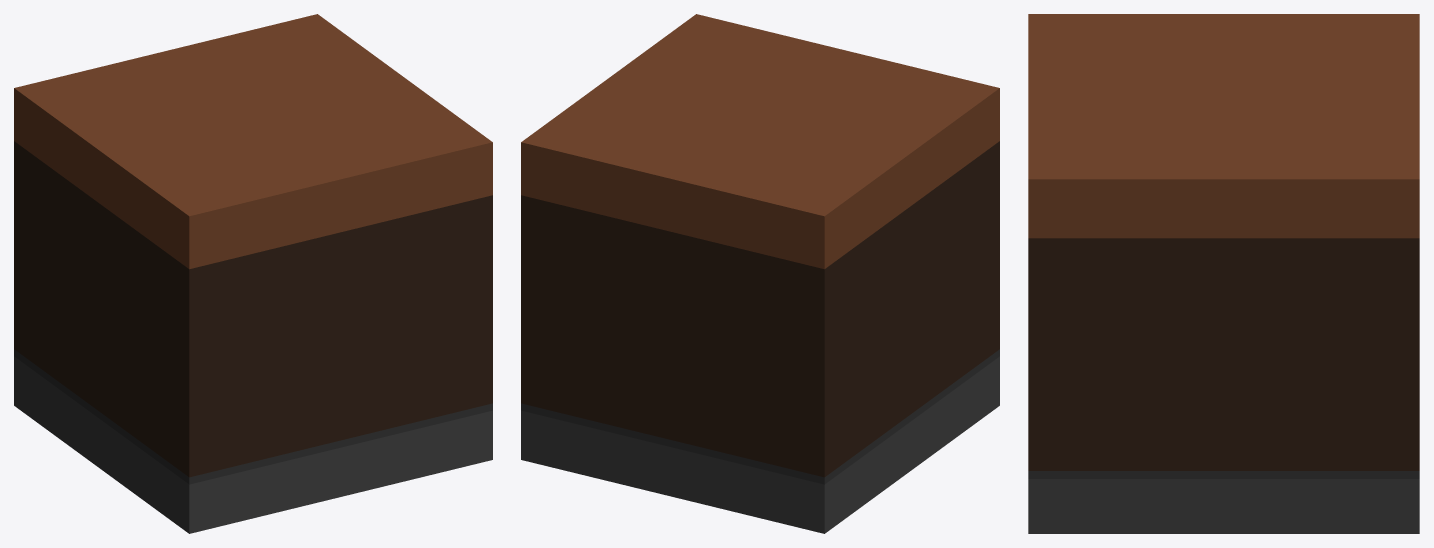
The model's file is plane-ground.fbx.
The picture shows the model from 3 angles, left to right: view 1: azimuth 30°, elevation 25°; view 2: azimuth 150°, elevation 25°; view 3: azimuth 270°, elevation 25°; orthographic projection. The views are drawn at different scales.
Visible parts, largest first — view 1: plane-ground; view 2: plane-ground; view 3: plane-ground.
Part boxes in pixels (bbox=[...]): plane-ground: bbox=[14, 14, 492, 533]; plane-ground: bbox=[521, 14, 999, 533]; plane-ground: bbox=[1028, 14, 1419, 533].
Size of the model in its own units: 300 by 300 by 300.
